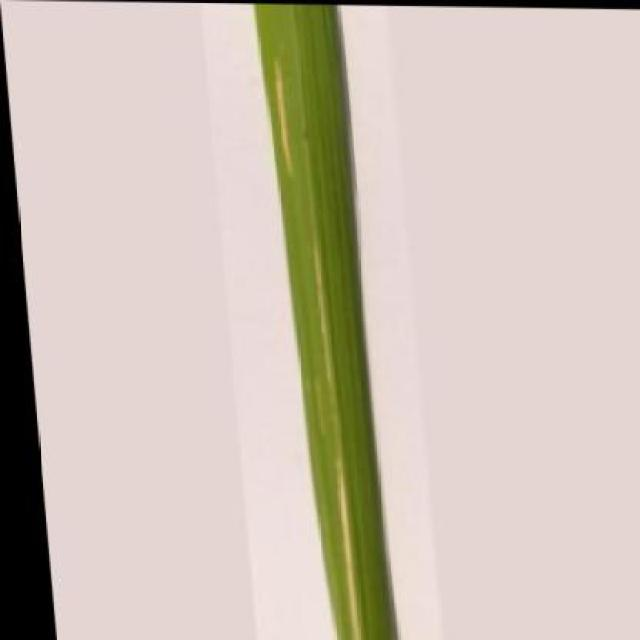Brown_Spot: (256, 3, 392, 640)
